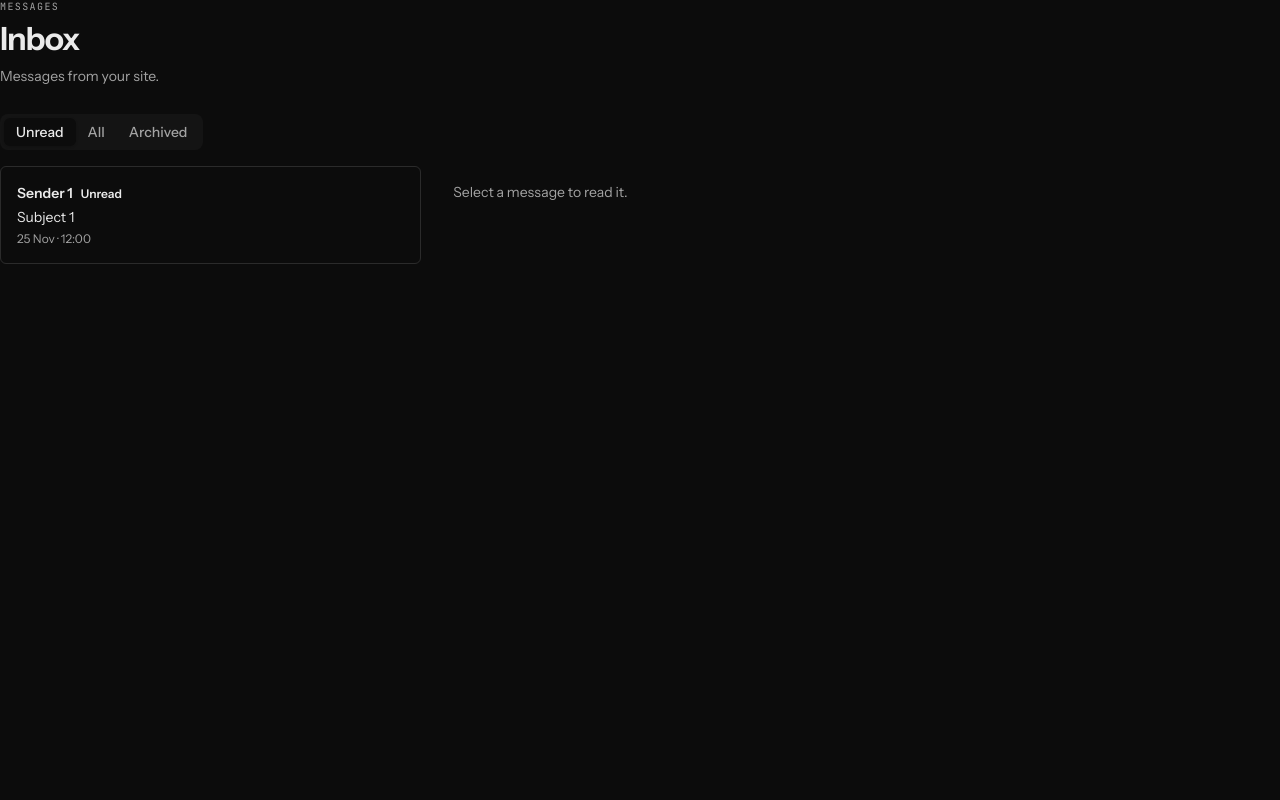
Scenario: messages inbox › returns mobile sheet focus after unread
The width and height of the screenshot is (1280, 800).
Step 1. Click the button "Sender 1Unread Subject 1 25 Nov · 12:00" → click(45, 193), box left=1, top=167, right=420, bottom=263
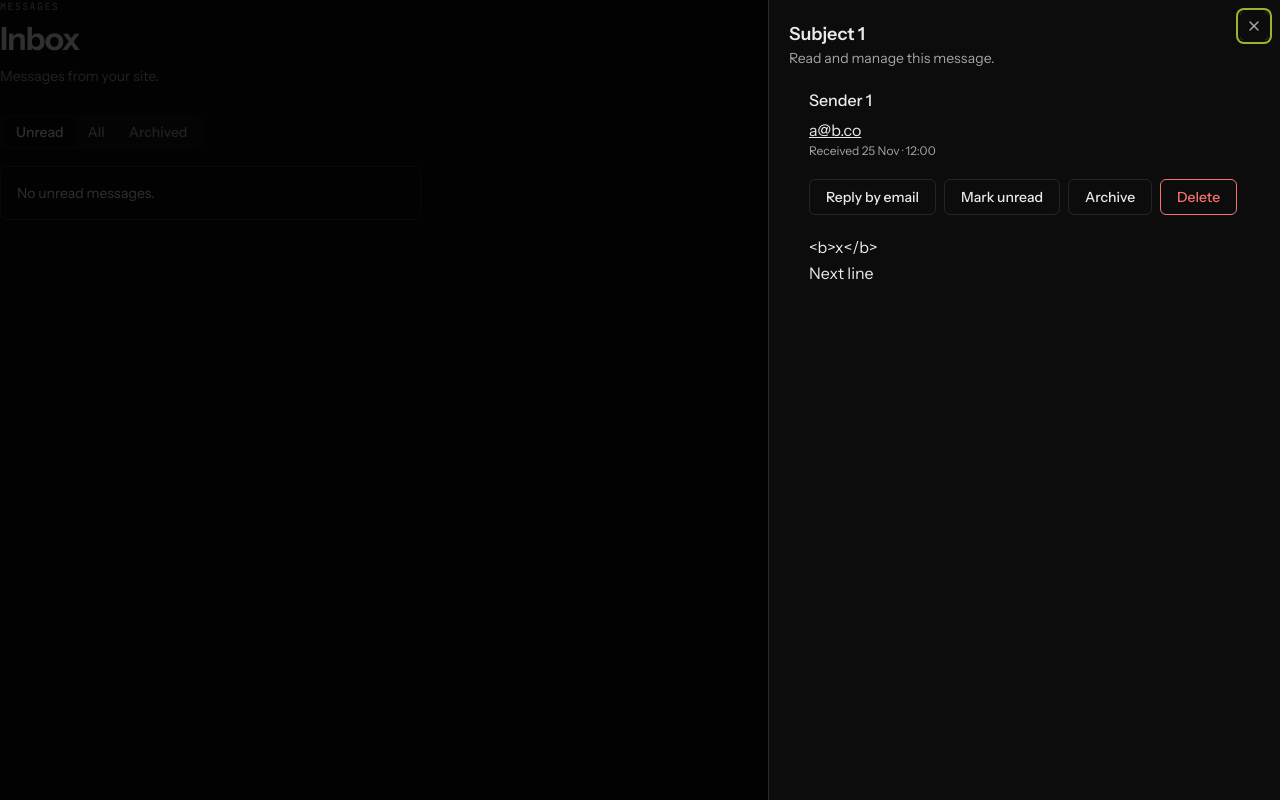
Step 2. Click the button named "Close" → click(1254, 26), box left=1240, top=12, right=1268, bottom=40
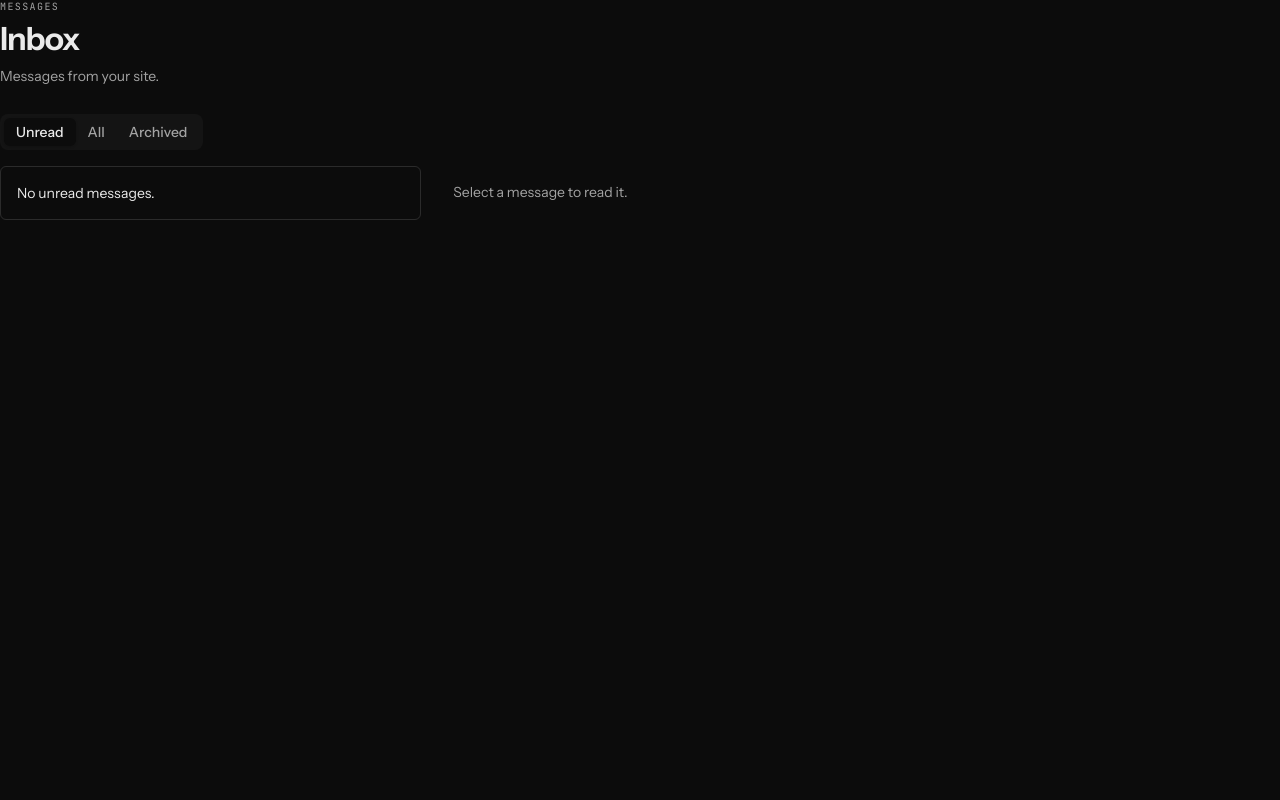
Result: the dialog is gone
